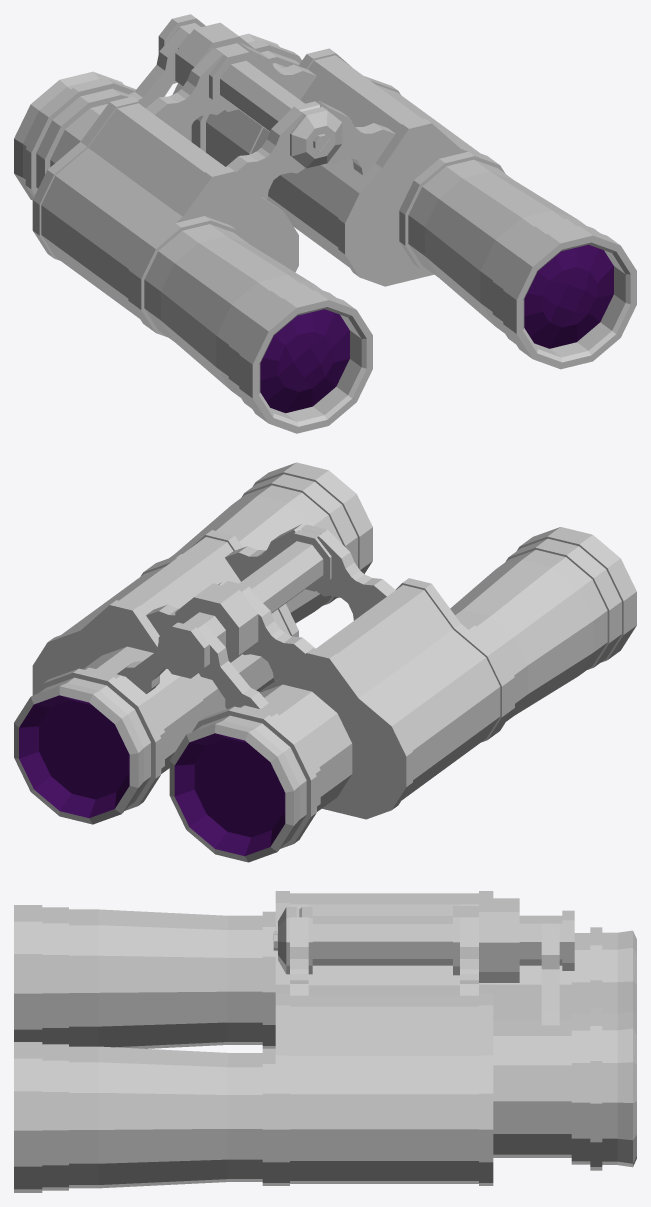
The model's file is SM_Binoculars.gltf.
3 views of the same model, one above another, from view 1: azimuth 30°, elevation 25°; view 2: azimuth 150°, elevation 25°; view 3: azimuth 270°, elevation 25° (orthographic). The views are drawn at different scales.
Parts seen in each view (by area): view 1: MS_Binoculars; view 2: MS_Binoculars; view 3: MS_Binoculars.
Boxes of the visible parts, bbox=[...] form: MS_Binoculars: bbox=[14, 14, 636, 433]; MS_Binoculars: bbox=[14, 462, 636, 862]; MS_Binoculars: bbox=[14, 891, 636, 1192].
Bounding box in the file's own units: 0.2355 × 0.1188 × 0.3106.
